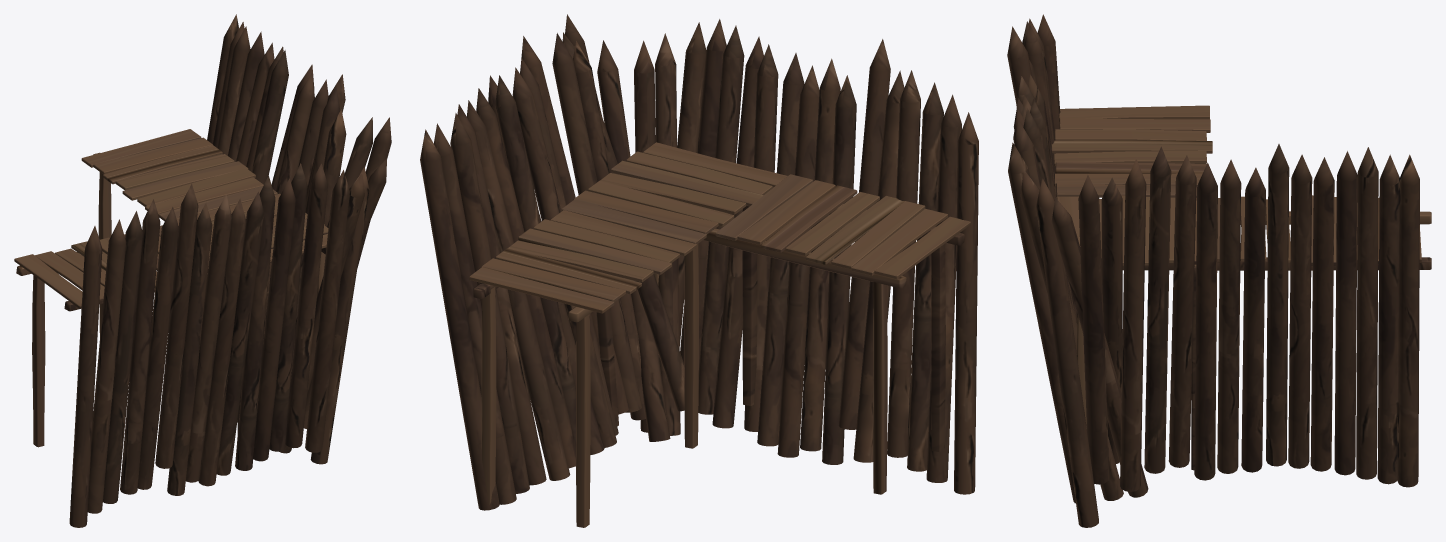
The model's file is Wall corner.fbx.
3 renders of one model, left to right at view 1: azimuth 30°, elevation 25°; view 2: azimuth 150°, elevation 25°; view 3: azimuth 270°, elevation 25°, orthographic. The views are drawn at different scales.
Visible parts, largest first — view 1: Wall_corner; view 2: Wall_corner; view 3: Wall_corner.
Part boxes in pixels (x1=…): Wall_corner: x1=14, y1=14, x2=391, y2=527; Wall_corner: x1=420, y1=14, x2=978, y2=527; Wall_corner: x1=1007, y1=14, x2=1431, y2=527.
Bounding box in the file's own units: 5.15 × 5.12 × 4.84.
